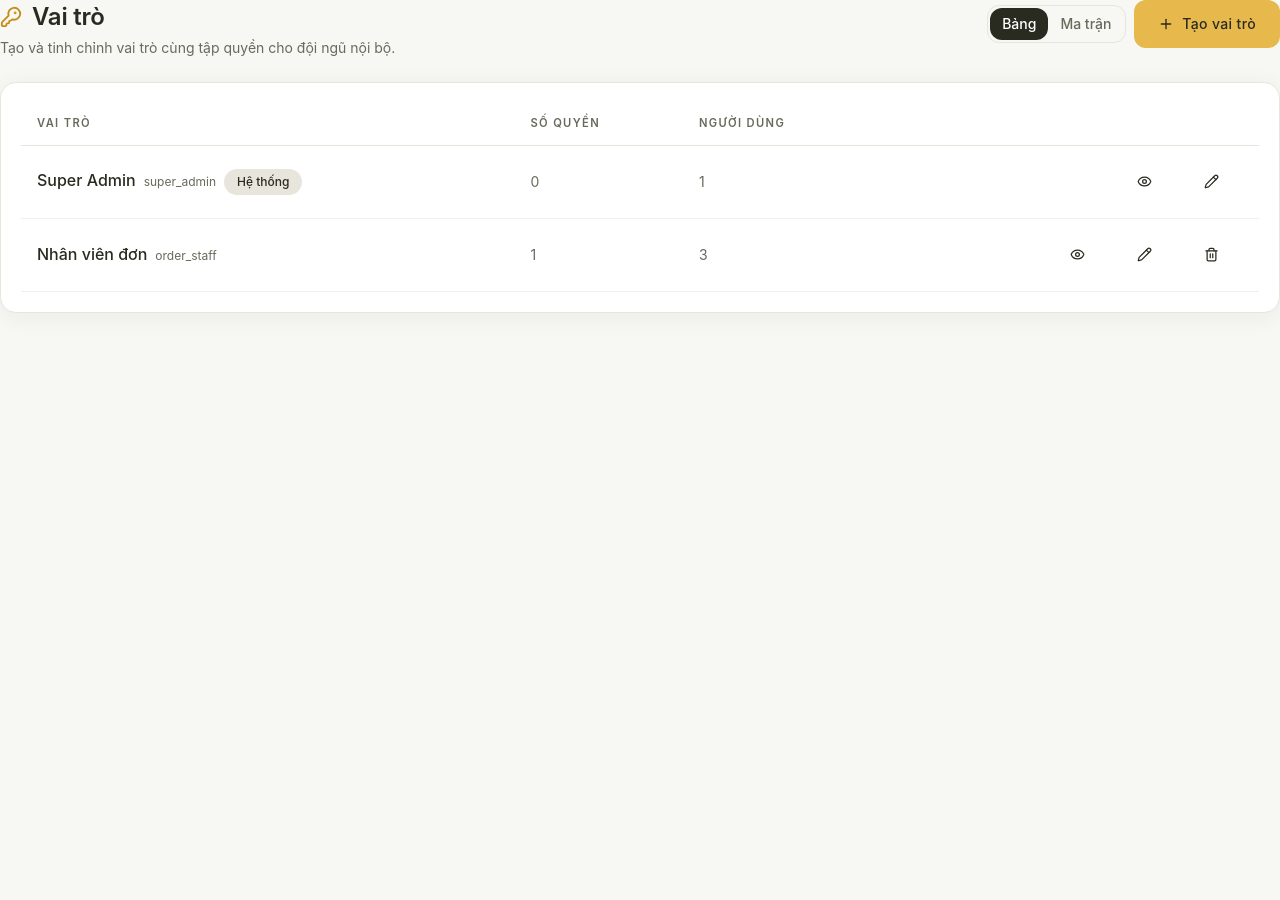
Test: AdminRolesPage › xoá role đang dùng → toast đọc users_count từ 409
Click the button named "Xoá vai trò Nhân viên đơn" at (1212, 255), box [1180,231,1243,279]
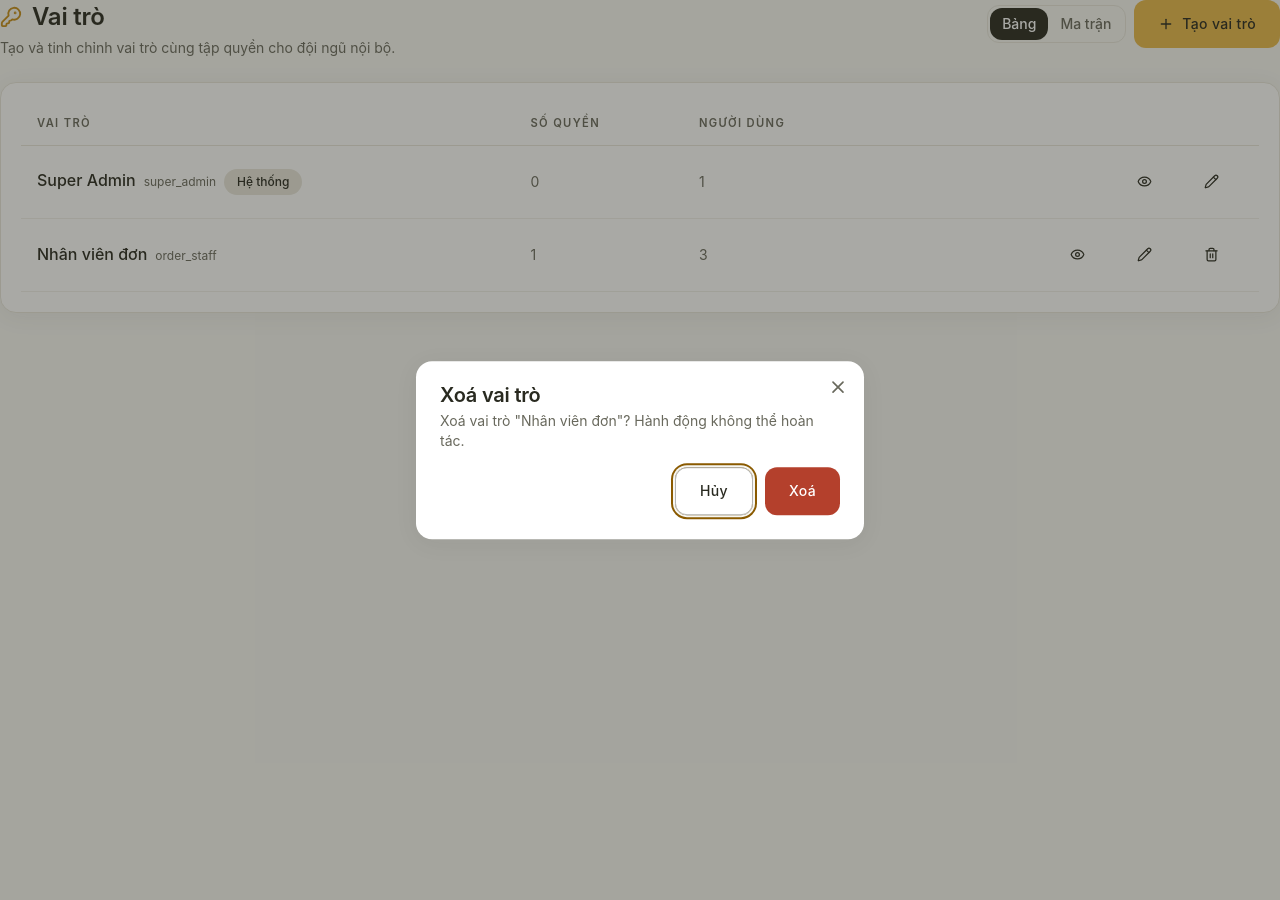
Click the button "Xoá" at (802, 491), box [765,467,840,515]
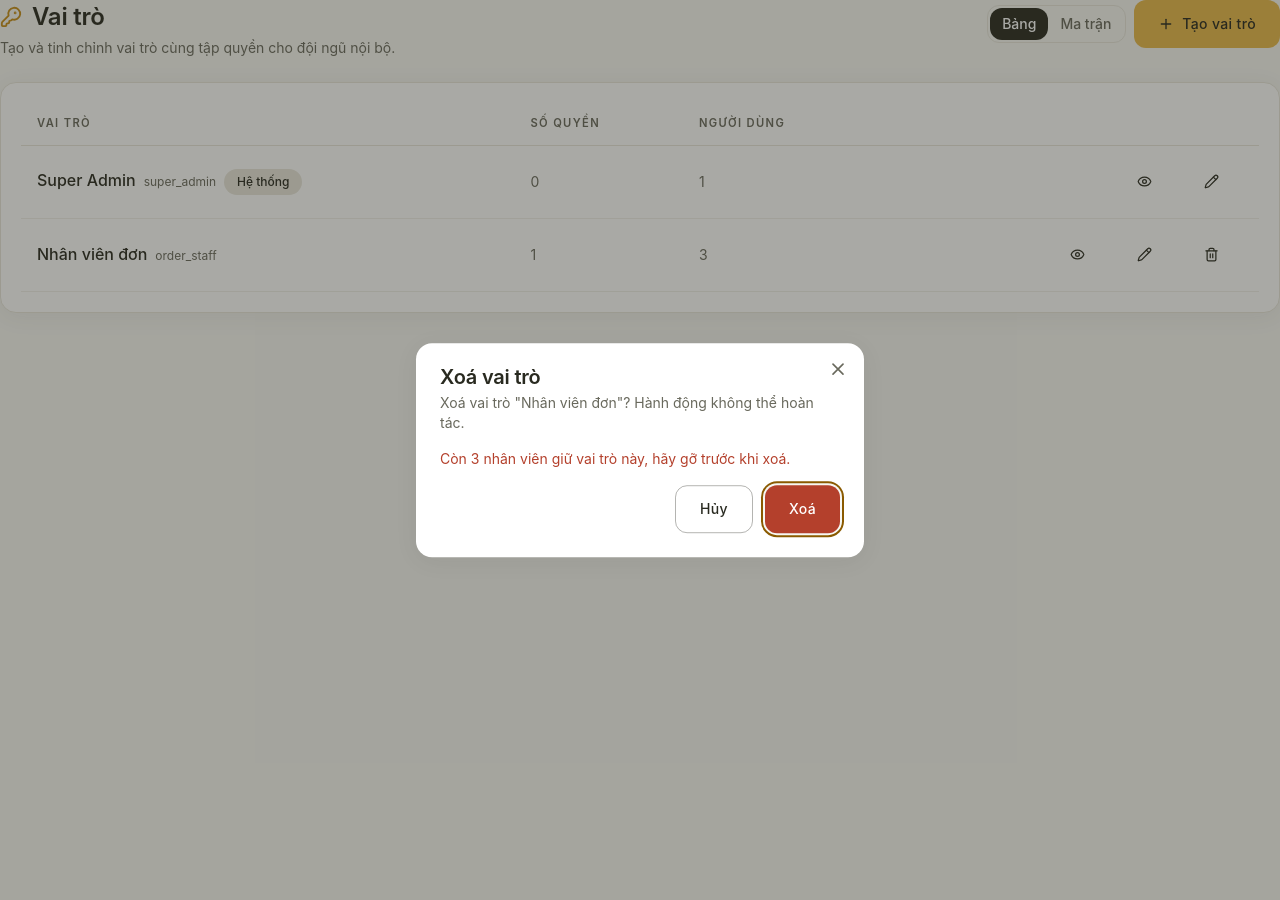
Expected: the dialog "Xoá vai trò" is shown, [416,343,864,557]
Expected: the message shows "Còn 3 nhân viên giữ vai trò này", [440,450,790,467]
